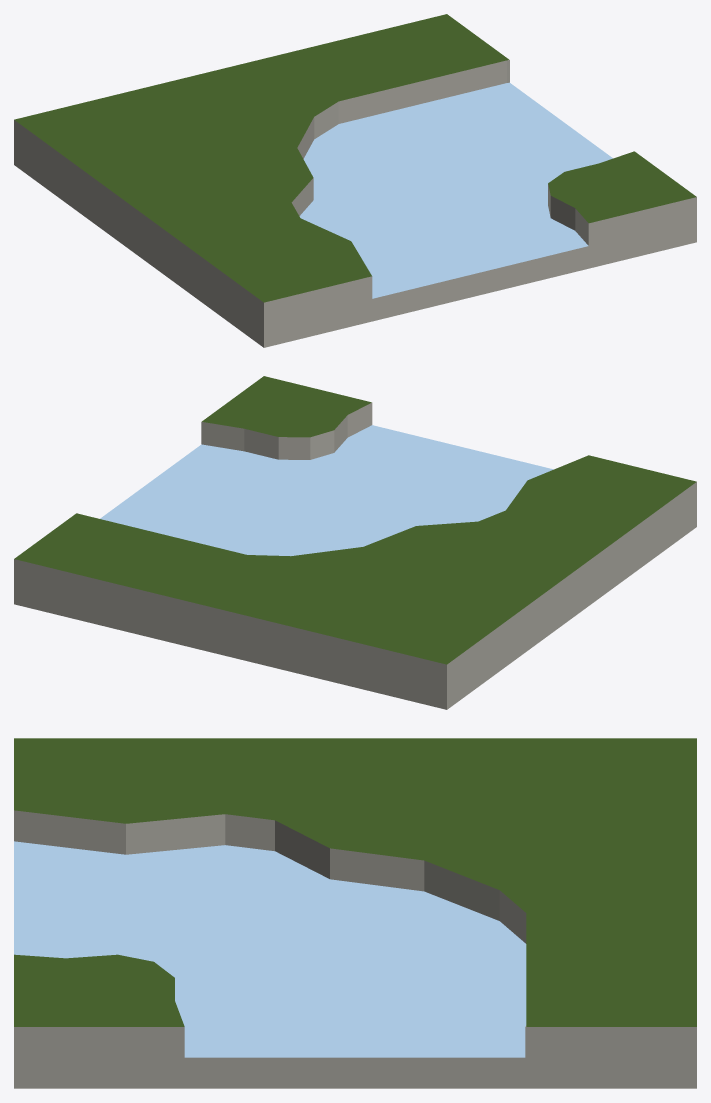
The model's file is Terrain_Modular_Tiles_Grass_Rock_River_Bend_02.fbx.
3 renders of one model, top to bottom at view 1: azimuth 30°, elevation 25°; view 2: azimuth 150°, elevation 25°; view 3: azimuth 270°, elevation 25°, orthographic. The views are drawn at different scales.
Visible parts, largest first — view 1: Terrain_Modular_Tiles_Grass_Rock_River_Bend_02; view 2: Terrain_Modular_Tiles_Grass_Rock_River_Bend_02; view 3: Terrain_Modular_Tiles_Grass_Rock_River_Bend_02.
Part boxes in pixels (box(x1,y1,x2,y2)): Terrain_Modular_Tiles_Grass_Rock_River_Bend_02: box(14, 14, 696, 347); Terrain_Modular_Tiles_Grass_Rock_River_Bend_02: box(14, 376, 696, 709); Terrain_Modular_Tiles_Grass_Rock_River_Bend_02: box(14, 738, 696, 1088).
Bounding box in the file's own units: 3000 × 300 × 3000.
